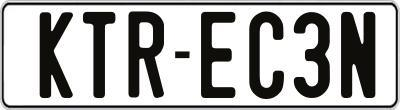3: (292, 12, 333, 104)
C: (247, 10, 284, 101)
E: (198, 9, 233, 98)
K: (39, 11, 78, 99)
N: (338, 11, 374, 100)
R: (128, 8, 167, 101)
T: (82, 10, 114, 98)
